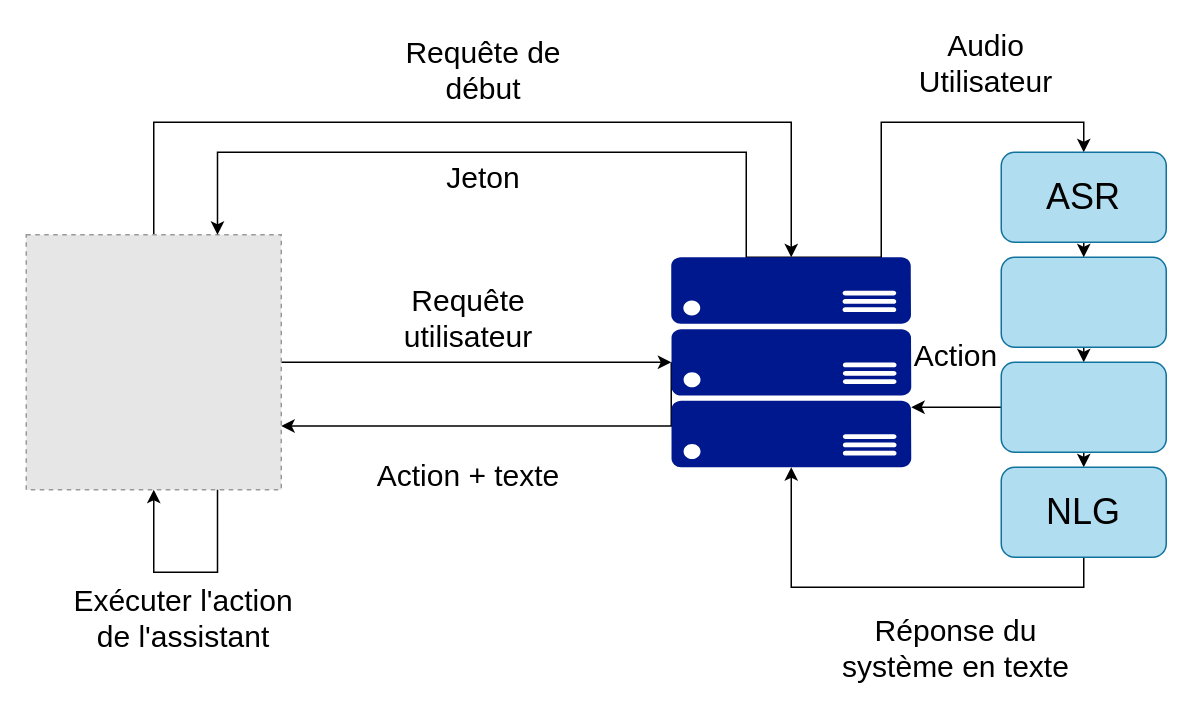
Image size: 1193x708. Some labels were removed from this diagram. Grey dashed boxes stand in for pictures. Here are the shapes that lost their labels. From the top down, the box of each, then its label:
(1000, 256, 1166, 347): NLU
(1000, 361, 1166, 452): Dialogue Manager
